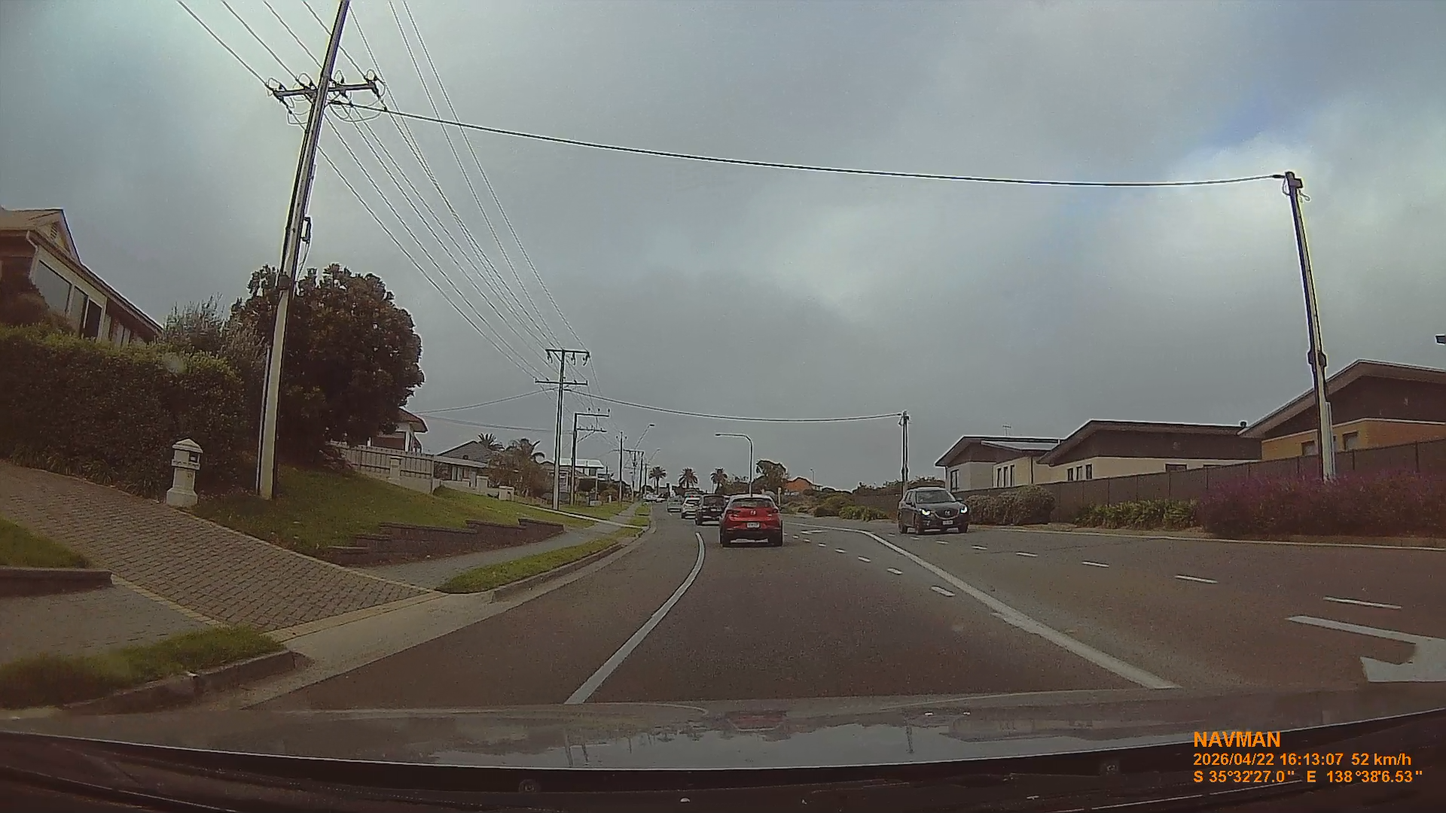fences: (1039, 456, 1319, 520), (333, 443, 440, 493)
